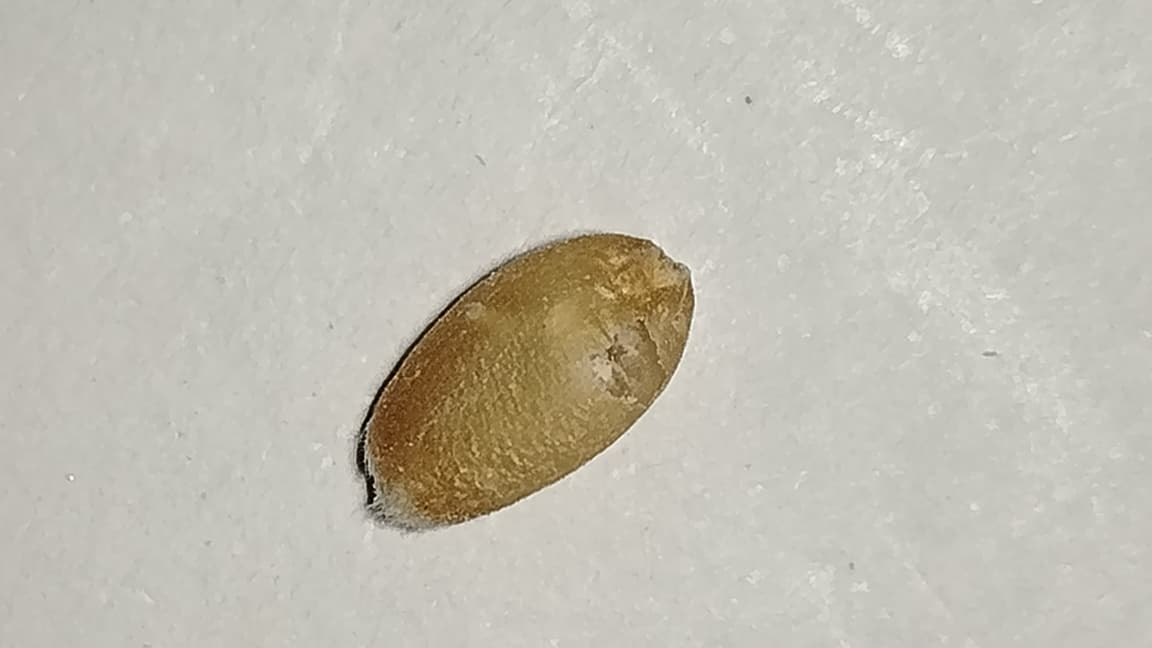damage: (363, 234, 694, 529)
insectdamage: (590, 309, 665, 395)
